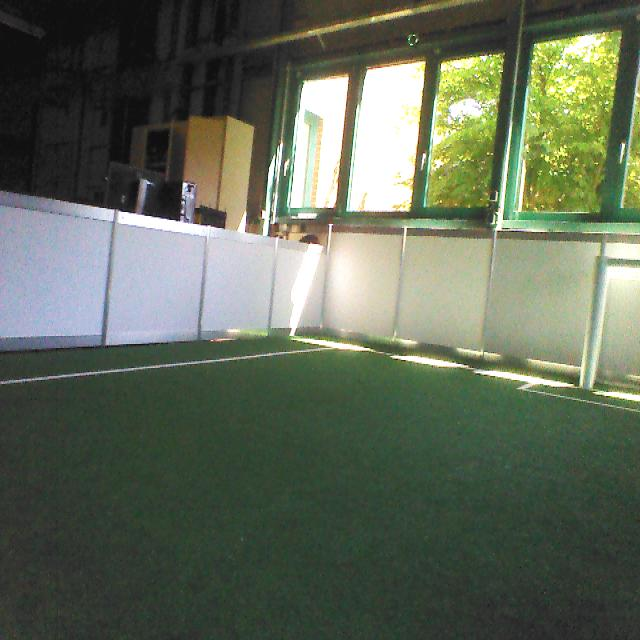goalpost: (577, 256, 609, 389)
